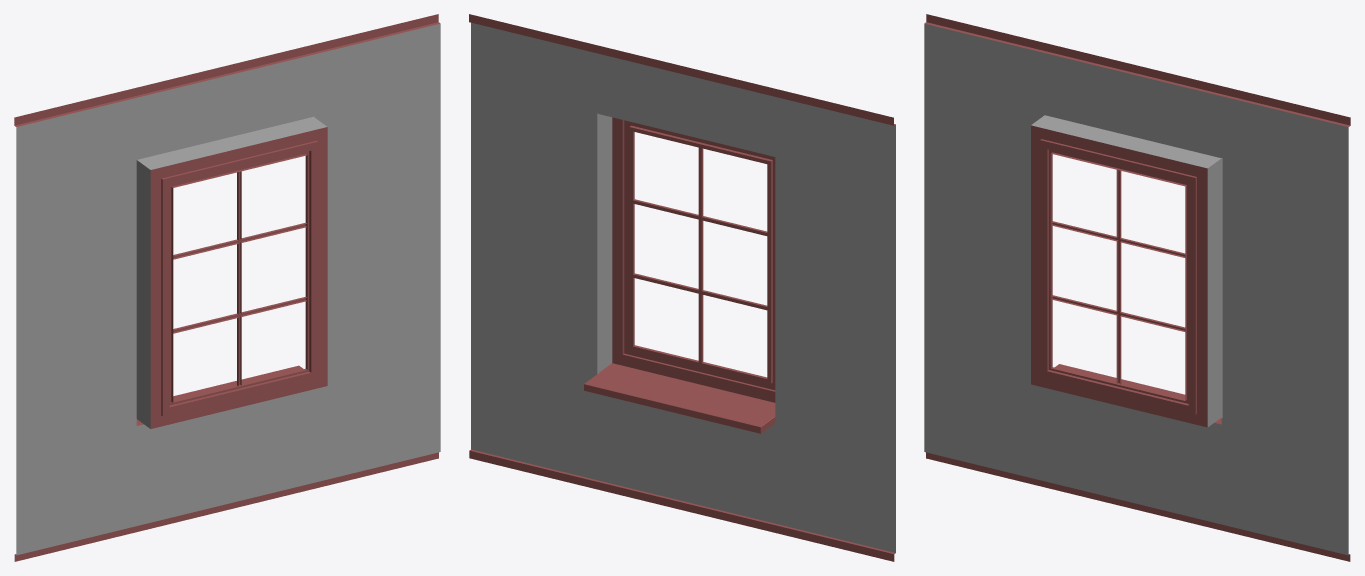
Rendered from Prop_WallIntWindow3x3_01.fbx.
The picture shows the model from 3 angles, left to right: view 1: azimuth 30°, elevation 25°; view 2: azimuth 150°, elevation 25°; view 3: azimuth 330°, elevation 25°; orthographic projection.
Visible parts, largest first — view 1: polySurface37; view 2: polySurface37; view 3: polySurface37.
Part boxes in pixels (x1=…): polySurface37: x1=14, y1=14, x2=440, y2=561; polySurface37: x1=469, y1=14, x2=895, y2=561; polySurface37: x1=924, y1=14, x2=1350, y2=561.
Bounding box in the file's own units: 3 × 3 × 0.3633.
